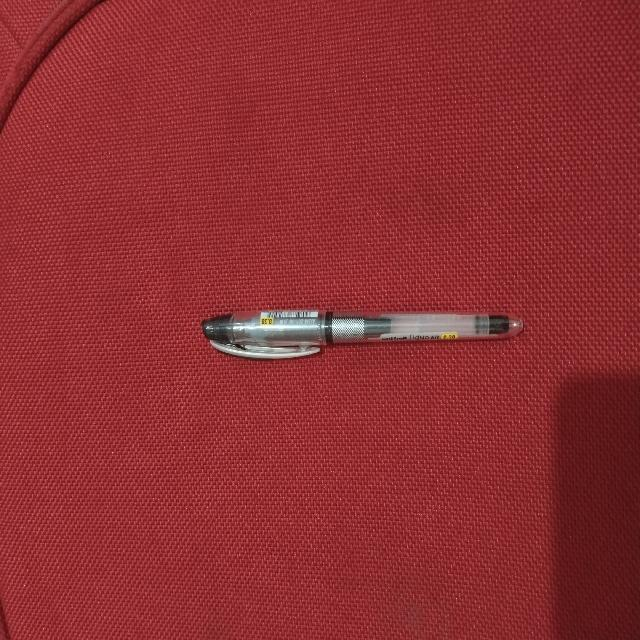pen: (202, 310, 522, 358)
